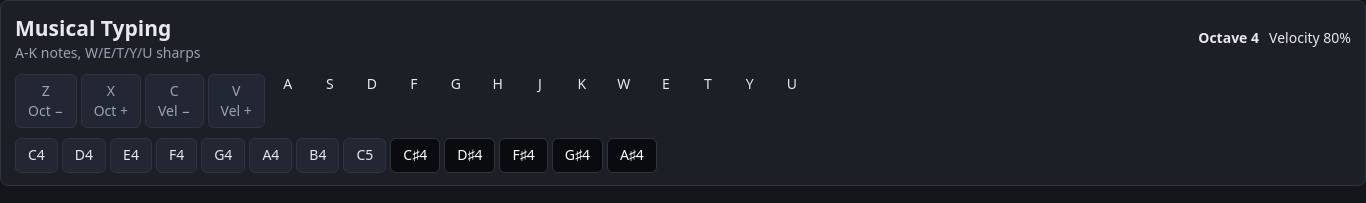
Test: Keyboard › shows the Musical Typing map, octave and velocity controls
Expected: the text "Octave 4" is shown, [1198,28,1259,48]
Expected: the text "Velocity 80%" is shown, [1269,28,1351,48]
Click the button with aria-label "Increase octave".
click(111, 101)  # box [81,74,141,128]
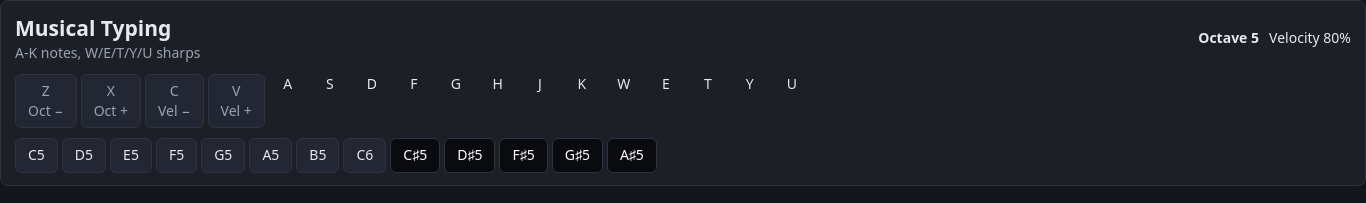
Click the button with aria-label "Increase velocity".
click(236, 101)  # box [208,74,265,128]
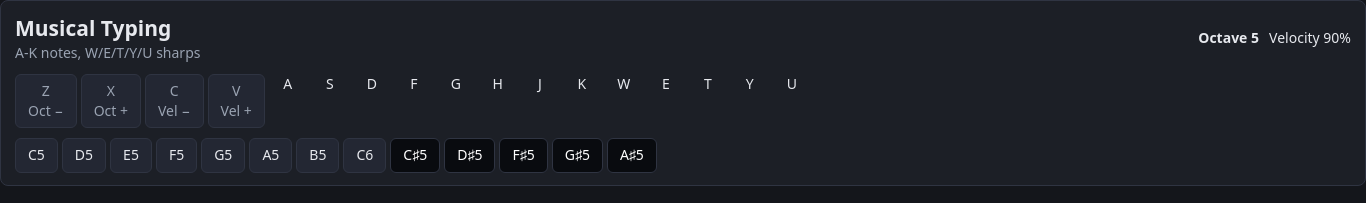
Now the text "Octave 5" is shown, box [1198,28,1259,48]
Now the text "Velocity 90%" is shown, box [1269,28,1351,48]
